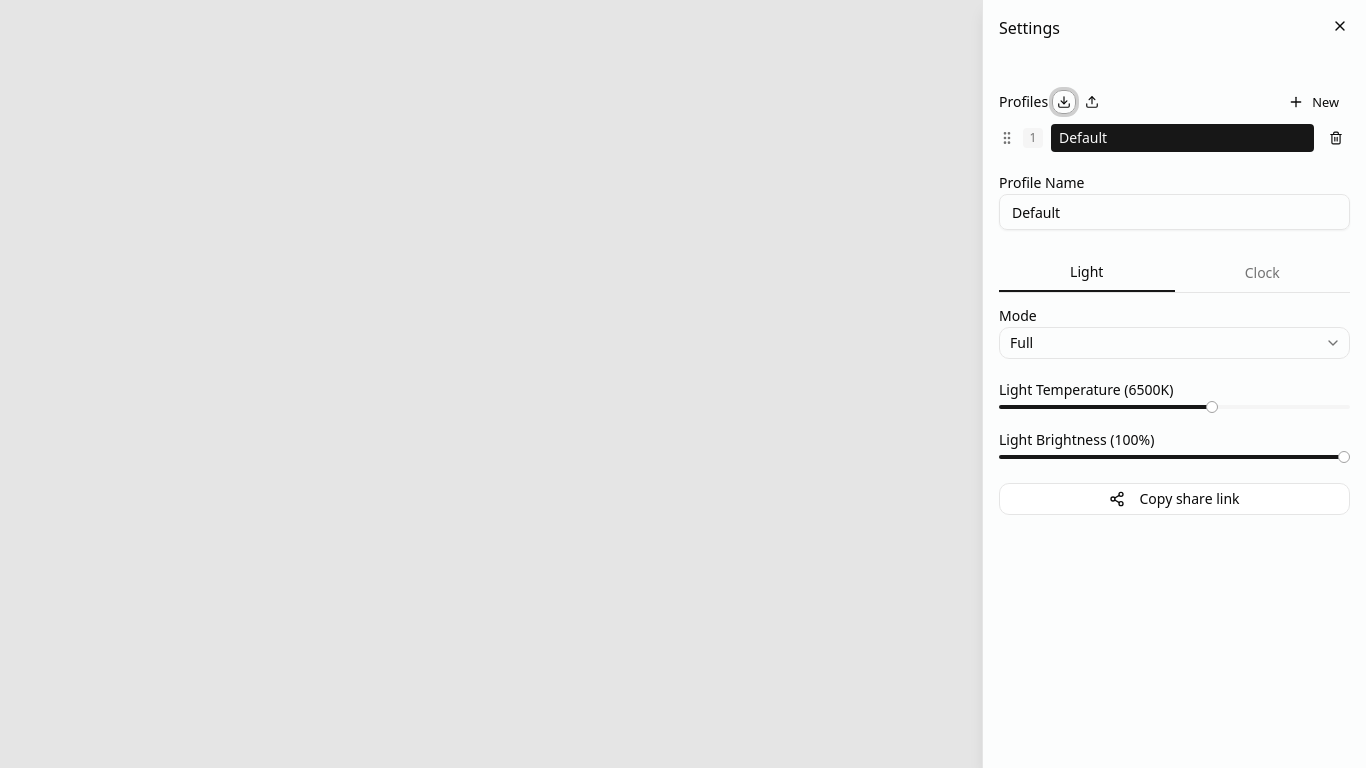
Test: SettingsModal › Clock tab › renders Show clock toggle when Clock tab is active
Click the tab "Clock": (1262, 273) [1174,254,1350,292]
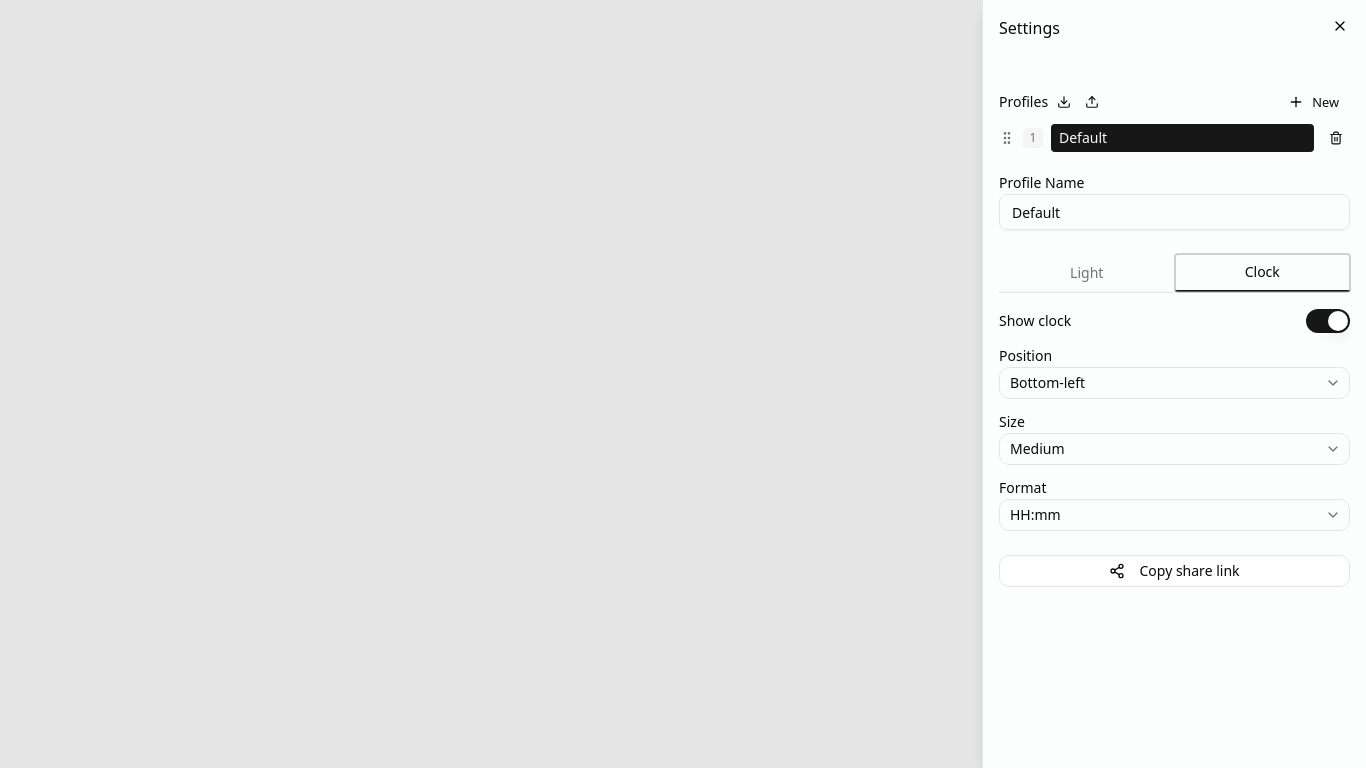
expect the switch named "Show clock" is shown: met, box [1306,309,1350,333]
